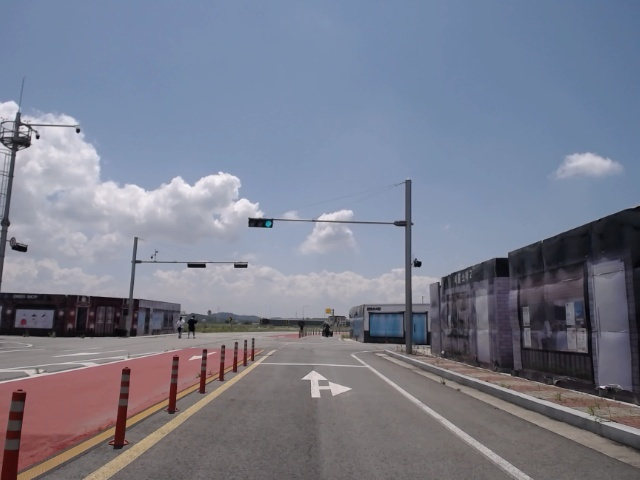green_3: (248, 218, 272, 227)
